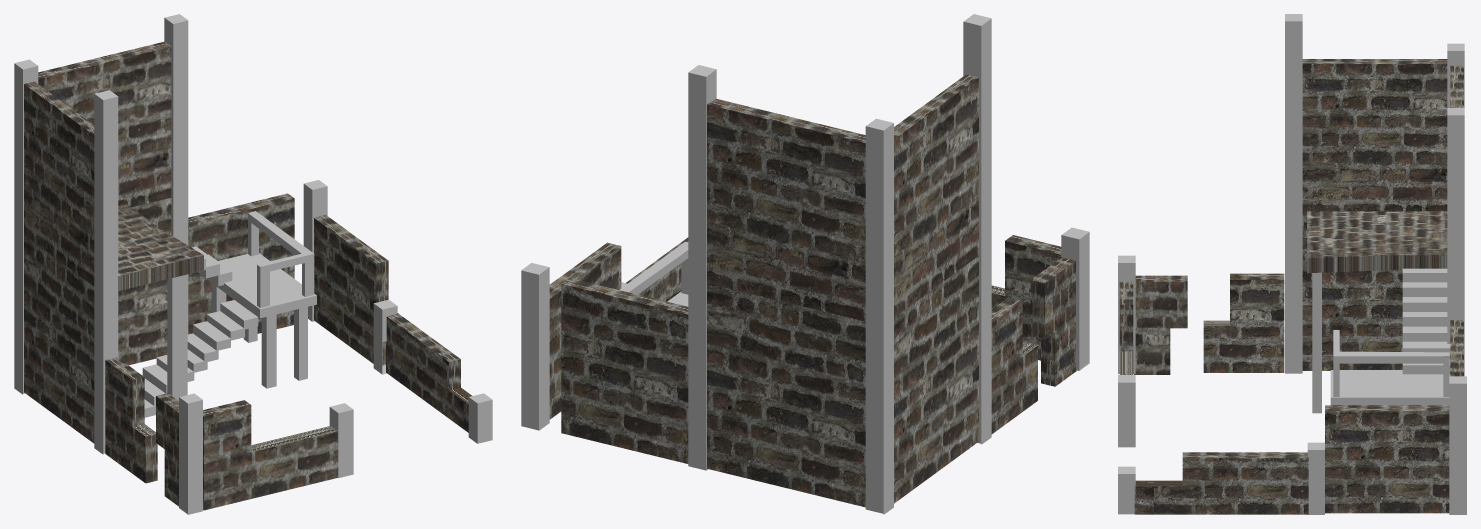
Rendered from brokenbuilding.obj.
The picture shows the model from 3 angles, left to right: view 1: azimuth 30°, elevation 25°; view 2: azimuth 150°, elevation 25°; view 3: azimuth 270°, elevation 25°; orthographic projection. The views are drawn at different scales.
Visible parts, largest first — view 1: Cube.008_Material.001, Cube.003_Material, Cube.002_Material, Cube.018_Material.001, Cube.004_Material, Cube.009_Material, Cube.001_Material, Cube.006_Material, Cube.007_Material, top_Material, Cube.010_Material; view 2: Cube.002_Material, Cube.008_Material.001, Cube.003_Material, Cube.001_Material, Cube.010_Material, Cube.007_Material, Cube.009_Material, Cube.004_Material, Cube.018_Material.001, Cube.006_Material; view 3: Cube.003_Material, Cube.008_Material.001, Cube.009_Material, Cube.018_Material.001, Cube.006_Material, top_Material, Cube.007_Material, Cube.010_Material, Cube.004_Material, Cube.001_Material, Cube.002_Material.
Boxes of the visible parts, <box> form: Cube.008_Material.001: <box>14,14,492,514</box>; Cube.003_Material: <box>24,81,94,443</box>; Cube.002_Material: <box>38,41,171,365</box>; Cube.018_Material.001: <box>142,211,316,417</box>; Cube.004_Material: <box>203,400,338,510</box>; Cube.009_Material: <box>314,215,388,364</box>; Cube.001_Material: <box>188,193,294,334</box>; Cube.006_Material: <box>386,313,471,432</box>; Cube.007_Material: <box>105,357,157,483</box>; top_Material: <box>118,204,203,291</box>; Cube.010_Material: <box>156,393,178,506</box>; Cube.002_Material: <box>707,98,865,507</box>; Cube.008_Material.001: <box>521,14,1089,514</box>; Cube.003_Material: <box>894,74,978,503</box>; Cube.001_Material: <box>561,278,688,463</box>; Cube.010_Material: <box>1030,257,1076,386</box>; Cube.007_Material: <box>991,297,1037,434</box>; Cube.009_Material: <box>549,242,621,419</box>; Cube.004_Material: <box>991,235,1061,360</box>; Cube.018_Material.001: <box>620,241,688,306</box>; Cube.006_Material: <box>626,237,688,301</box>; Cube.003_Material: <box>1302,59,1447,370</box>; Cube.008_Material.001: <box>1118,14,1466,514</box>; Cube.009_Material: <box>1325,405,1449,513</box>; Cube.018_Material.001: <box>1330,268,1450,405</box>; Cube.006_Material: <box>1134,452,1308,514</box>; top_Material: <box>1307,211,1447,273</box>; Cube.007_Material: <box>1203,273,1284,372</box>; Cube.010_Material: <box>1134,275,1187,374</box>; Cube.004_Material: <box>1119,281,1133,374</box>; Cube.001_Material: <box>1450,320,1463,376</box>; Cube.002_Material: <box>1450,65,1463,107</box>.
Size of the model in its own units: 40.36 by 44.59 by 39.88.
